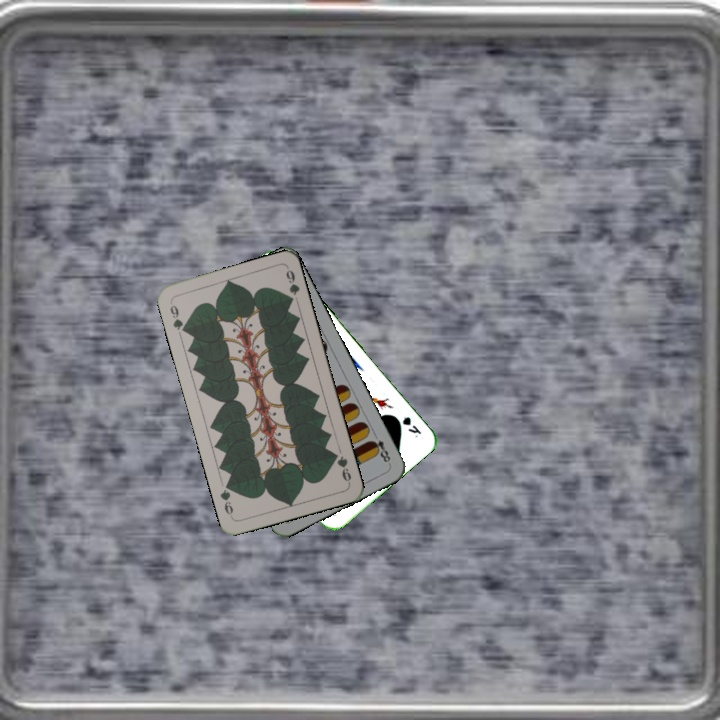E8: (367, 429, 393, 467)
G9: (329, 448, 354, 486), (166, 298, 189, 336)
GK: (398, 412, 424, 440)
